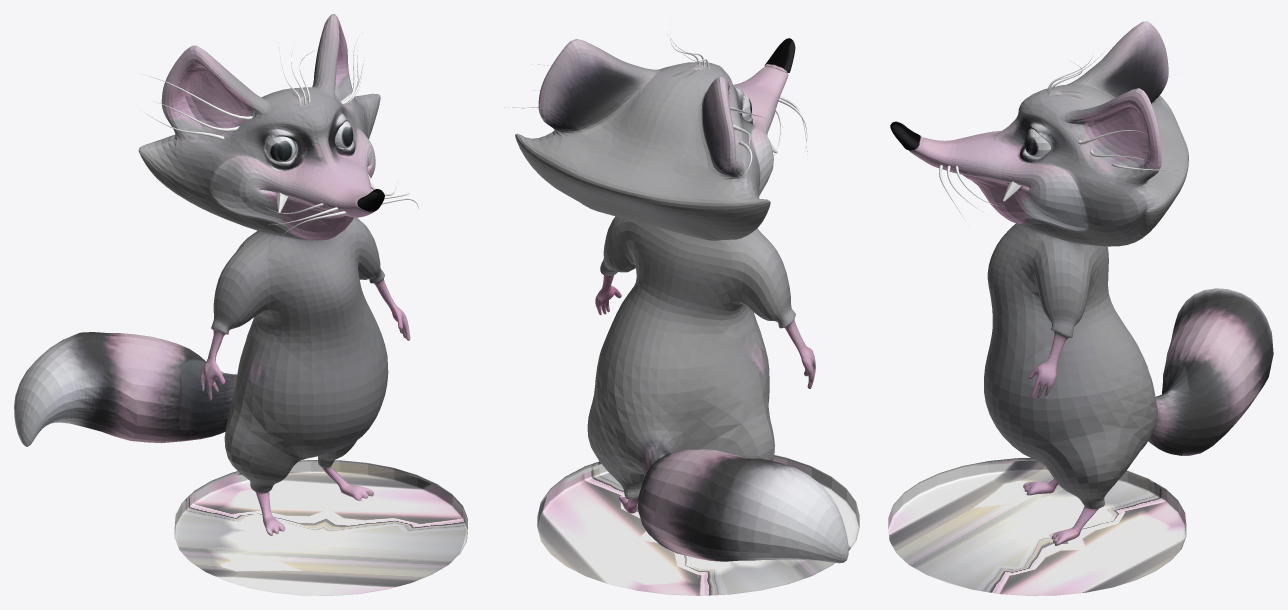
3 renders of one model, left to right at view 1: azimuth 30°, elevation 25°; view 2: azimuth 150°, elevation 25°; view 3: azimuth 270°, elevation 25°, orthographic. The views are drawn at different scales.
Visible parts, largest first — view 1: mvadapter_node_0023_ef4c7e106f31441cbe6bc6e6f97b3e1a; view 2: mvadapter_node_0023_ef4c7e106f31441cbe6bc6e6f97b3e1a; view 3: mvadapter_node_0023_ef4c7e106f31441cbe6bc6e6f97b3e1a.
Part boxes in pixels (box(x1,y1,x2,y2)): mvadapter_node_0023_ef4c7e106f31441cbe6bc6e6f97b3e1a: box(14, 14, 467, 595); mvadapter_node_0023_ef4c7e106f31441cbe6bc6e6f97b3e1a: box(498, 20, 859, 595); mvadapter_node_0023_ef4c7e106f31441cbe6bc6e6f97b3e1a: box(888, 19, 1273, 595).
Bounding box in the file's own units: 0.7558 × 1 × 0.7193.
1 material, 1 textured.
